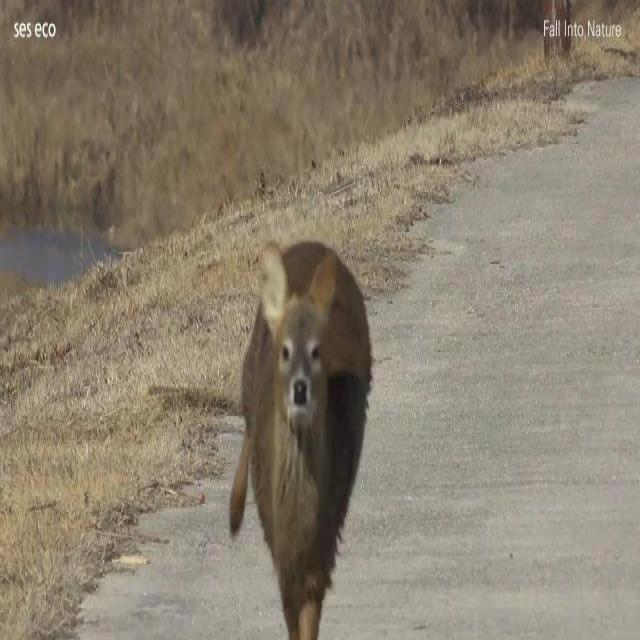deer: (226, 236, 372, 640)
